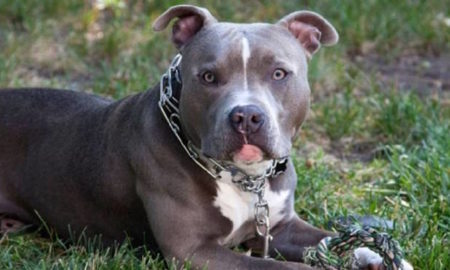Perro Pitbull: (118, 5, 373, 240)
